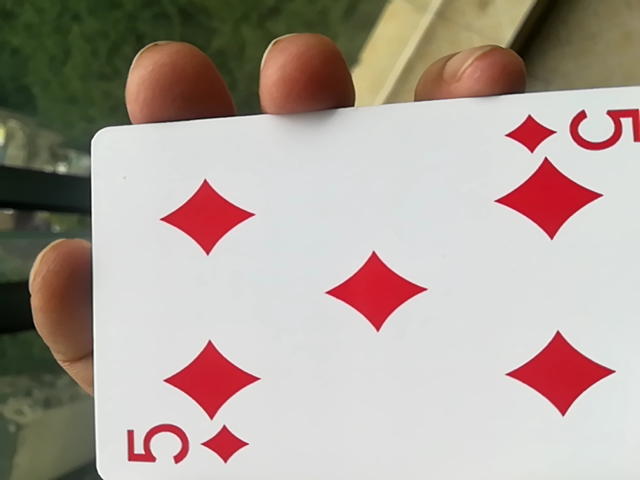fk 5: (75, 90, 637, 480)
